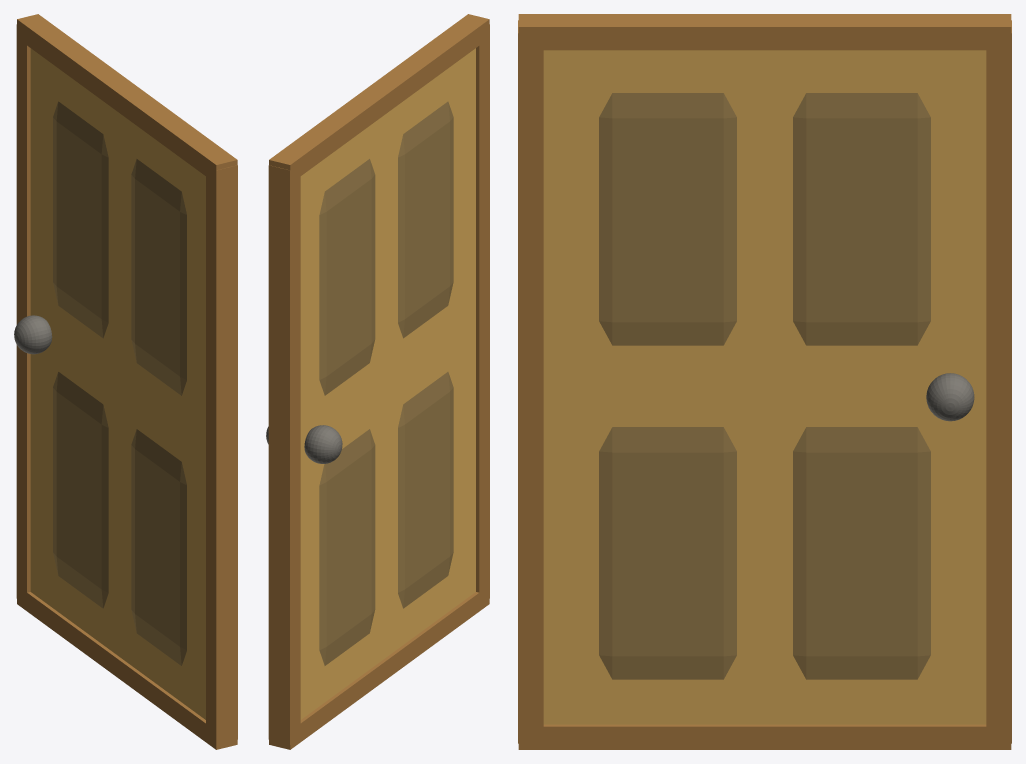
The model's file is door.fbx.
3 views of the same model, side by side, from view 1: azimuth 30°, elevation 25°; view 2: azimuth 150°, elevation 25°; view 3: azimuth 270°, elevation 25° (orthographic). The views are drawn at different scales.
Visible parts, largest first — view 1: Cube, Cube.001, Cube.003, Cube.002, Sphere; view 2: Cube, Cube.001, Cube.003, Cube.002, Sphere; view 3: Cube, Cube.001, Cube.003, Cube.002, Sphere.
Boxes of the visible parts, x1,y1,x2,y2 form: Cube: [30, 48, 205, 719]; Cube.001: [53, 101, 186, 665]; Cube.003: [16, 24, 237, 744]; Cube.002: [17, 14, 237, 749]; Sphere: [14, 315, 52, 354]; Cube: [300, 48, 475, 719]; Cube.001: [319, 101, 453, 665]; Cube.003: [268, 24, 489, 744]; Cube.002: [269, 14, 489, 749]; Sphere: [266, 425, 342, 463]; Cube: [543, 50, 986, 724]; Cube.001: [599, 93, 930, 679]; Cube.003: [518, 20, 1011, 743]; Cube.002: [518, 14, 1011, 749]; Sphere: [926, 373, 974, 421].
Size of the model in its own units: 124 by 970 by 601.
